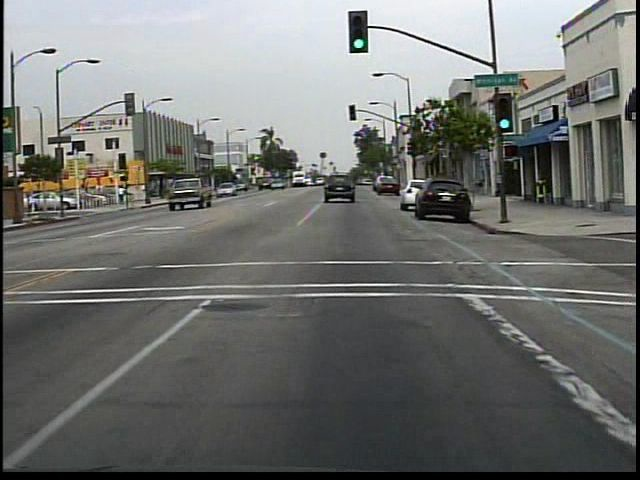person: (119, 182, 128, 207)
